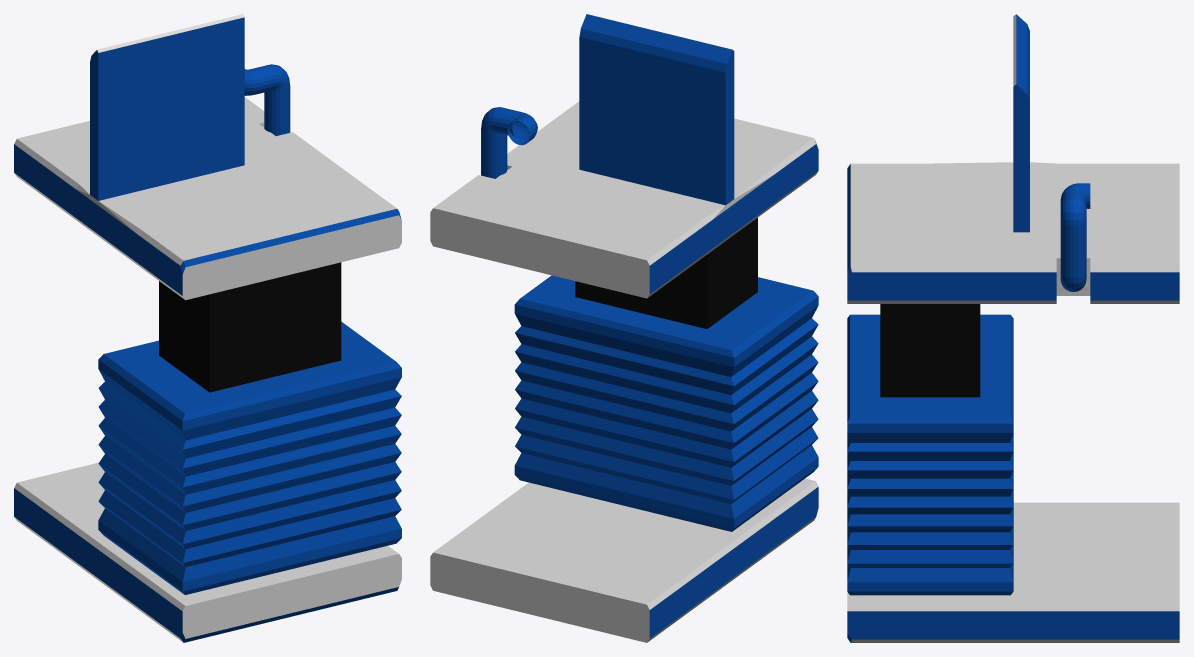
Rendered from filter_press.obj.
The picture shows the model from 3 angles, left to right: view 1: azimuth 30°, elevation 25°; view 2: azimuth 150°, elevation 25°; view 3: azimuth 270°, elevation 25°; orthographic projection.
Parts seen in each view (by area): view 1: Cube, Cube.001; view 2: Cube, Cube.001; view 3: Cube, Cube.001.
Part boxes in pixels (<box>): Cube: <box>14,14,401,642</box>; Cube.001: <box>244,64,290,135</box>; Cube: <box>430,14,818,642</box>; Cube.001: <box>481,107,537,178</box>; Cube: <box>847,14,1179,642</box>; Cube.001: <box>1060,183,1090,291</box>.
Size of the model in its own units: 3.02 by 6.97 by 4.
